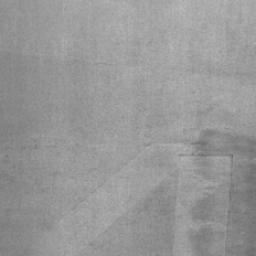Rolled pit: (42, 144, 232, 256)
